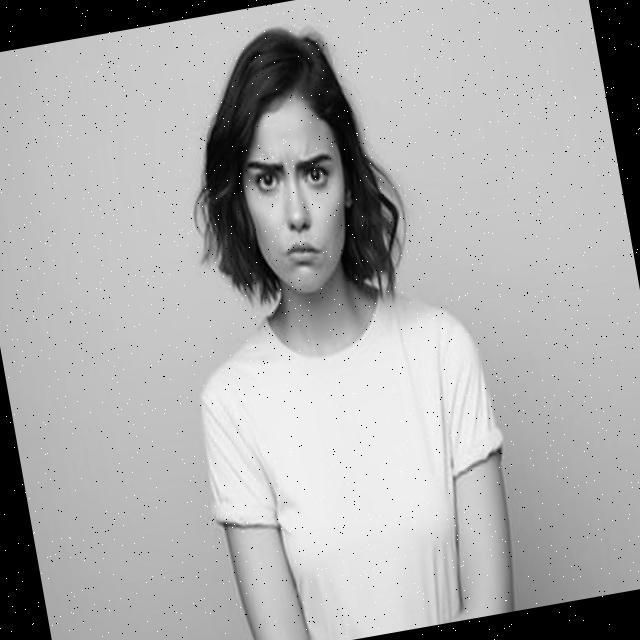Angry: (231, 102, 362, 301)
